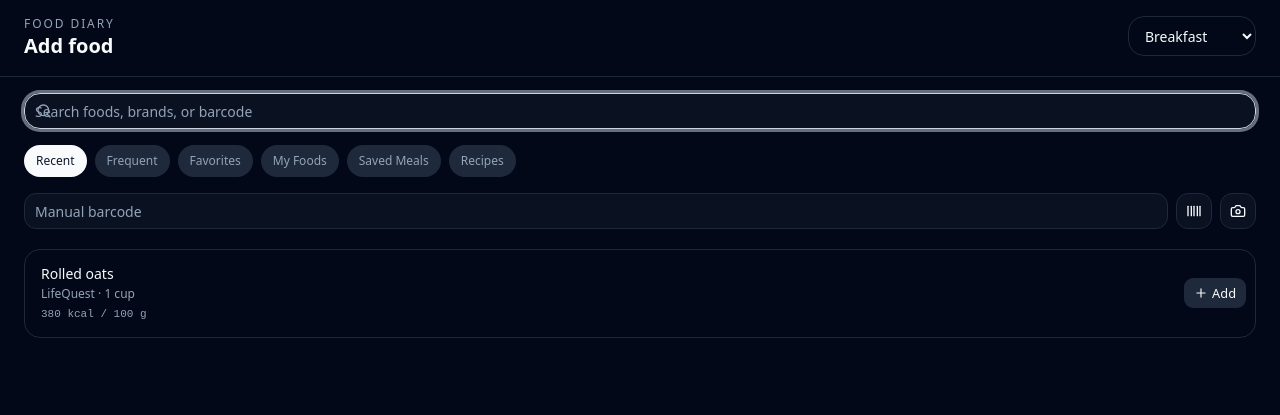
Test: FoodSearchPanel › keeps local foods available when provider search fails
Type "rolled" into the field with placeholder "Search foods, brands, or barcode" at (640, 111), box [24,93,1256,129]
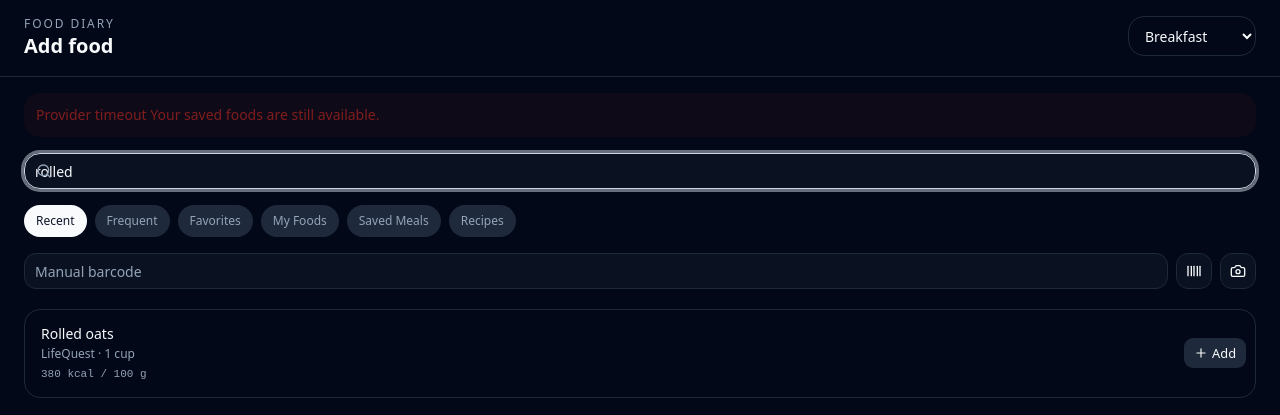
Check: the text "Rolled oats" is shown, box [41,324,114,344]
Check: the text "Provider timeout Your saved foods are still available." is shown, box [24,93,1256,137]
